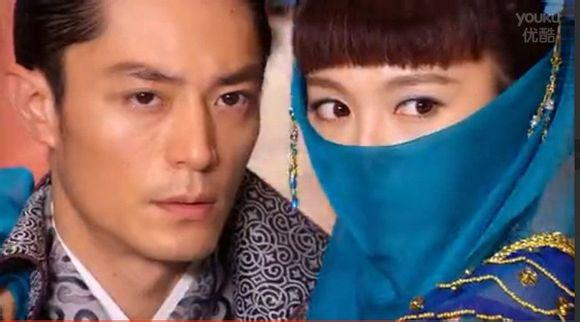NONE: (74, 56, 266, 254)
OK: (308, 73, 476, 241)
